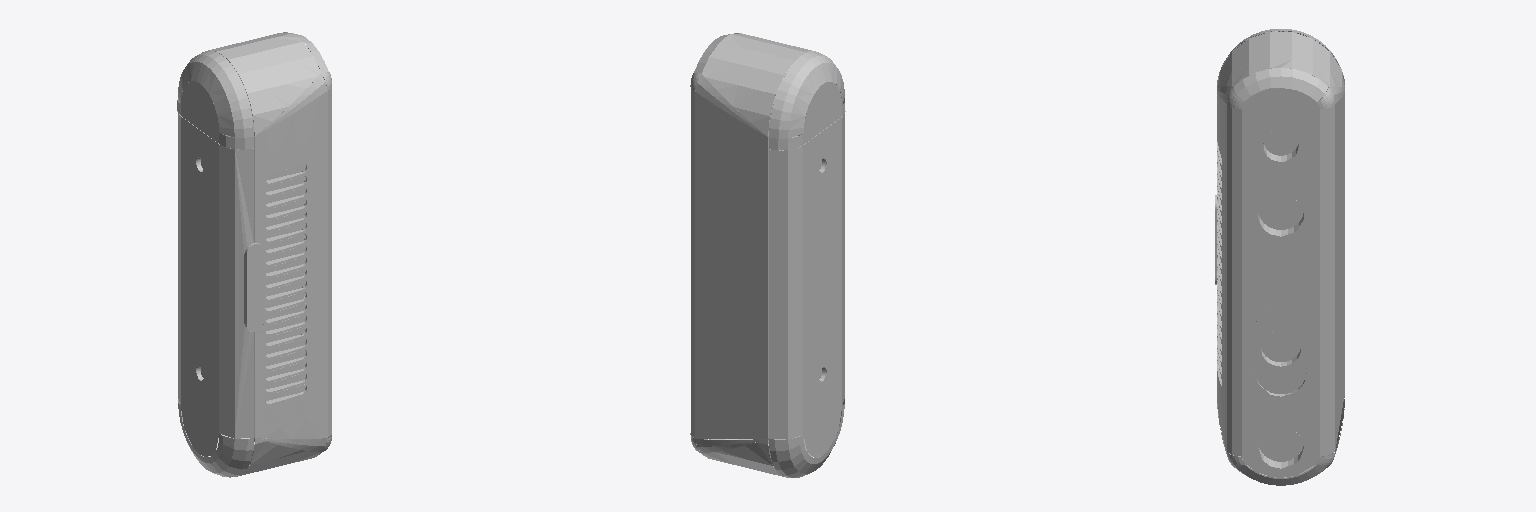
Rendered from realsense.obj.
3 renders of one model, left to right at view 1: azimuth 30°, elevation 25°; view 2: azimuth 150°, elevation 25°; view 3: azimuth 270°, elevation 25°, orthographic.
Parts seen in each view (by area): view 1: group2 group_pasted__nurbsToPoly431 polySurface1, group2 group_pasted__nurbsToPoly430 polySurface1, group2 group_pasted__nurbsToPoly428 polySurface1, group2 group_pasted__nurbsToPoly439 polySurface1, group2 group_pasted__nurbsToPoly440 polySurface1, group2 group_pasted__nurbsToPoly436 polySurface1, group2 group_pasted__nurbsToPoly444 polySurface1, group2 group_pasted__nurbsToPoly474 polySurface1, group2 group_pasted__nurbsToPoly450 polySurface1, group2 group_pasted__nurbsToPoly435 polySurface1, group2 group_pasted__nurbsToPoly429 polySurface1, group2 group_pasted__nurbsToPoly442 polySurface1 (+2 smaller); view 2: group2 group_pasted__nurbsToPoly433 polySurface1, group2 group_pasted__nurbsToPoly430 polySurface1, group2 group_pasted__nurbsToPoly429 polySurface1, group2 group_pasted__nurbsToPoly439 polySurface1, group2 group_pasted__nurbsToPoly424 polySurface1, group2 group_pasted__nurbsToPoly436 polySurface1, group2 group_pasted__nurbsToPoly444 polySurface1, group2 group_pasted__nurbsToPoly447 polySurface1, group2 group_pasted__nurbsToPoly425 polySurface1, group2 group_pasted__nurbsToPoly428 polySurface1, group2 group_pasted__nurbsToPoly441 polySurface1, group2 group_pasted__nurbsToPoly440 polySurface1 (+1 smaller); view 3: group2 group_pasted__nurbsToPoly443 polySurface1, group2 group_pasted__nurbsToPoly447 polySurface1, group2 group_pasted__nurbsToPoly450 polySurface1, group2 group_pasted__nurbsToPoly439 polySurface1, group2 group_pasted__nurbsToPoly433 polySurface1, group2 group_pasted__nurbsToPoly459 polySurface1, group2 group_pasted__nurbsToPoly431 polySurface1, group2 group_pasted__nurbsToPoly456 polySurface1, group2 group_pasted__nurbsToPoly454 polySurface1, group2 group_pasted__nurbsToPoly464 polySurface1, group2 group_pasted__nurbsToPoly446 polySurface1, group2 group_pasted__nurbsToPoly423 polySurface1 (+2 smaller).
Part boxes in pixels (bbox=[...]): group2 group_pasted__nurbsToPoly431 polySurface1: bbox=[255, 91, 327, 438]; group2 group_pasted__nurbsToPoly430 polySurface1: bbox=[181, 117, 218, 456]; group2 group_pasted__nurbsToPoly428 polySurface1: bbox=[219, 145, 253, 438]; group2 group_pasted__nurbsToPoly439 polySurface1: bbox=[208, 33, 320, 135]; group2 group_pasted__nurbsToPoly440 polySurface1: bbox=[200, 55, 253, 137]; group2 group_pasted__nurbsToPoly436 polySurface1: bbox=[178, 399, 253, 477]; group2 group_pasted__nurbsToPoly444 polySurface1: bbox=[181, 81, 218, 142]; group2 group_pasted__nurbsToPoly474 polySurface1: bbox=[247, 244, 263, 331]; group2 group_pasted__nurbsToPoly450 polySurface1: bbox=[328, 88, 331, 436]; group2 group_pasted__nurbsToPoly435 polySurface1: bbox=[240, 438, 319, 475]; group2 group_pasted__nurbsToPoly429 polySurface1: bbox=[178, 113, 180, 404]; group2 group_pasted__nurbsToPoly442 polySurface1: bbox=[256, 73, 327, 135]; group2 group_pasted__nurbsToPoly433 polySurface1: bbox=[695, 92, 767, 438]; group2 group_pasted__nurbsToPoly430 polySurface1: bbox=[803, 118, 841, 457]; group2 group_pasted__nurbsToPoly429 polySurface1: bbox=[769, 146, 802, 439]; group2 group_pasted__nurbsToPoly439 polySurface1: bbox=[702, 33, 811, 136]; group2 group_pasted__nurbsToPoly424 polySurface1: bbox=[769, 56, 822, 138]; group2 group_pasted__nurbsToPoly436 polySurface1: bbox=[769, 399, 844, 477]; group2 group_pasted__nurbsToPoly444 polySurface1: bbox=[803, 82, 841, 143]; group2 group_pasted__nurbsToPoly447 polySurface1: bbox=[691, 89, 694, 437]; group2 group_pasted__nurbsToPoly425 polySurface1: bbox=[702, 439, 782, 476]; group2 group_pasted__nurbsToPoly428 polySurface1: bbox=[842, 114, 844, 405]; group2 group_pasted__nurbsToPoly441 polySurface1: bbox=[695, 74, 765, 135]; group2 group_pasted__nurbsToPoly440 polySurface1: bbox=[802, 51, 844, 104]; group2 group_pasted__nurbsToPoly443 polySurface1: bbox=[1242, 88, 1319, 477]; group2 group_pasted__nurbsToPoly447 polySurface1: bbox=[1320, 105, 1334, 456]; group2 group_pasted__nurbsToPoly450 polySurface1: bbox=[1227, 105, 1241, 456]; group2 group_pasted__nurbsToPoly439 polySurface1: bbox=[1217, 32, 1344, 87]; group2 group_pasted__nurbsToPoly433 polySurface1: bbox=[1335, 94, 1344, 449]; group2 group_pasted__nurbsToPoly459 polySurface1: bbox=[1255, 304, 1306, 393]; group2 group_pasted__nurbsToPoly431 polySurface1: bbox=[1217, 93, 1226, 449]; group2 group_pasted__nurbsToPoly456 polySurface1: bbox=[1259, 195, 1302, 229]; group2 group_pasted__nurbsToPoly454 polySurface1: bbox=[1259, 427, 1302, 461]; group2 group_pasted__nurbsToPoly464 polySurface1: bbox=[1261, 330, 1300, 361]; group2 group_pasted__nurbsToPoly446 polySurface1: bbox=[1234, 68, 1280, 101]; group2 group_pasted__nurbsToPoly423 polySurface1: bbox=[1281, 68, 1327, 101].
Bounding box in the file's own units: 0.0251 × 0.0904 × 0.0257.